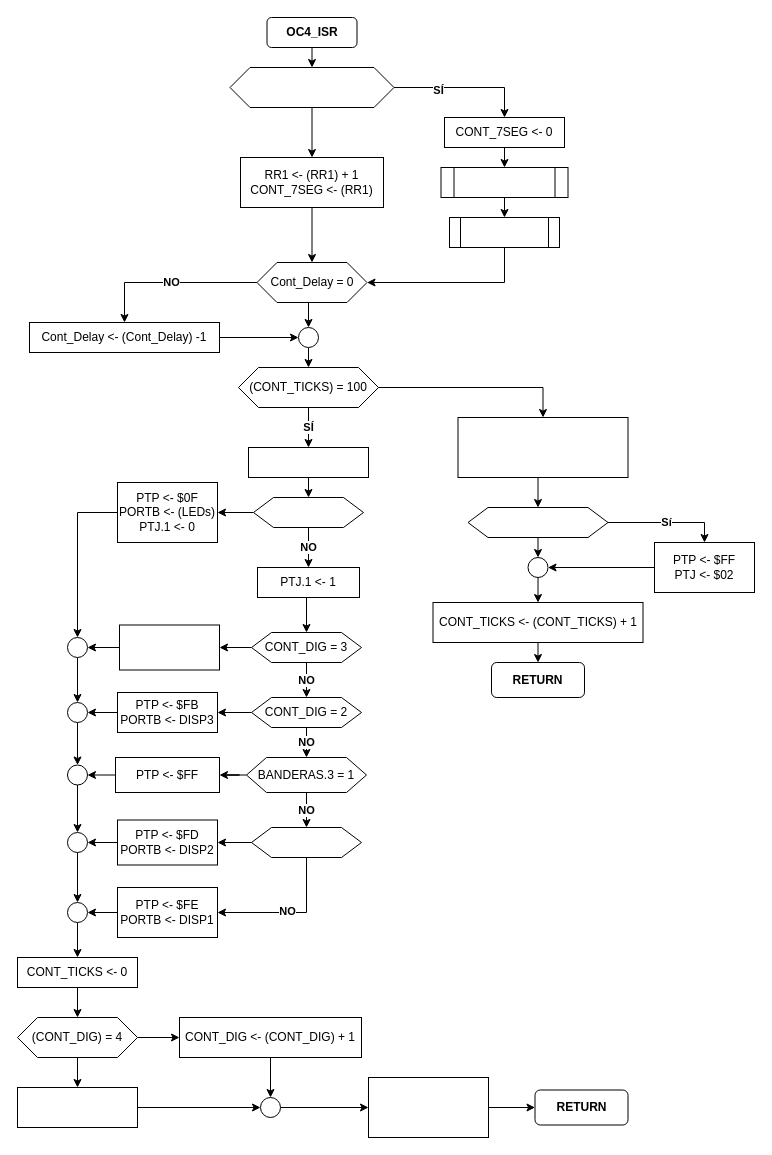
The diagram is 772 pixels wide and 1155 high, and some of its shapes have lost their labels. Here are the shapes that lost their labels. From the top down, the centre of each, then its label:
the point at 311,87: (CONT_7SEG) = 5000
the point at 504,182: CONV_BIN_BCD
the point at 504,232: BCD_7SEG
the point at 308,462: R1 <- CONT_DIG
the point at 542,447: R2 <- 100 R2 <- (R2) - (BRILLO) DT <- (R2)
the point at 308,512: CONT_DIG = 4
the point at 537,522: CONT_TICKS = R2
the point at 169,647: PTP <- $F7 PORT <- DISP4
the point at 306,842: CONT_DIG = 1
the point at 77,1107: CONT_DIG <- 0
the point at 428,1107: RR1 <- TCNT RR1 <- (RR1) + 30 TC4 <- RR1
